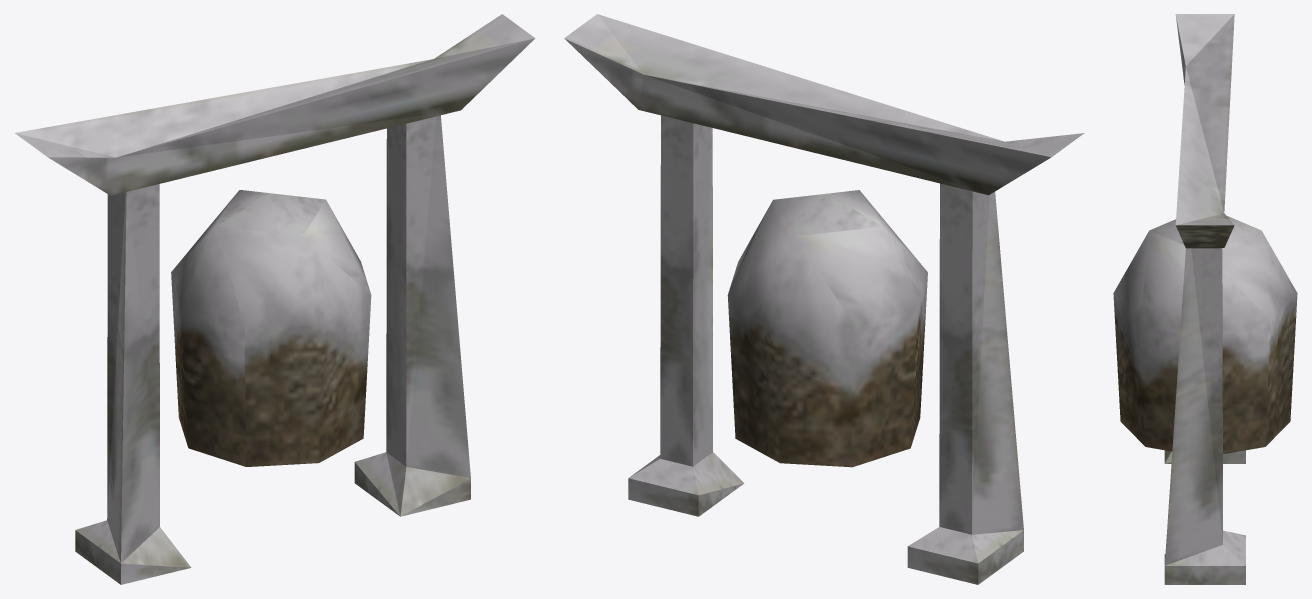
The model's file is general_obj_bell_lod_01.glb.
The picture shows the model from 3 angles, left to right: view 1: azimuth 30°, elevation 25°; view 2: azimuth 150°, elevation 25°; view 3: azimuth 270°, elevation 25°; orthographic projection. The views are drawn at different scales.
Parts seen in each view (by area): view 1: Object24; view 2: Object24; view 3: Object24.
Boxes of the visible parts, bbox=[...] form: Object24: bbox=[15, 14, 535, 584]; Object24: bbox=[564, 14, 1084, 584]; Object24: bbox=[1113, 14, 1297, 584].
Size of the model in its own units: 3.6 by 3.1 by 1.33.
1 material, 1 textured.
